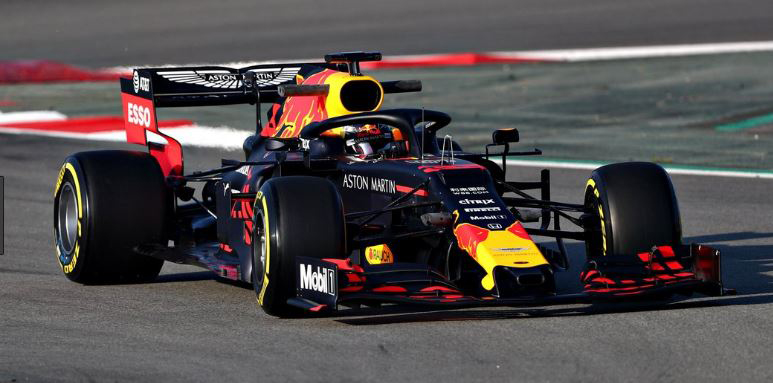F1 Car: (49, 49, 743, 323)
